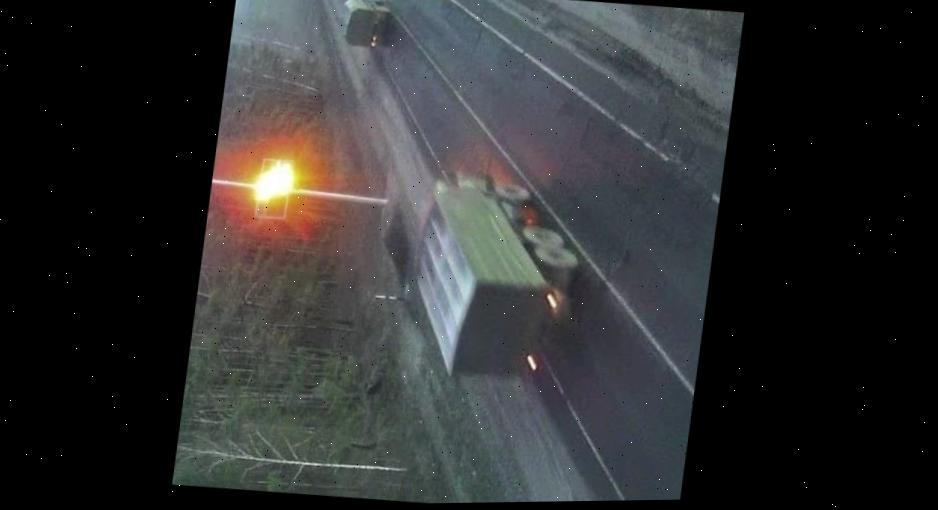truck: (379, 159, 601, 400), (330, 0, 403, 62)
